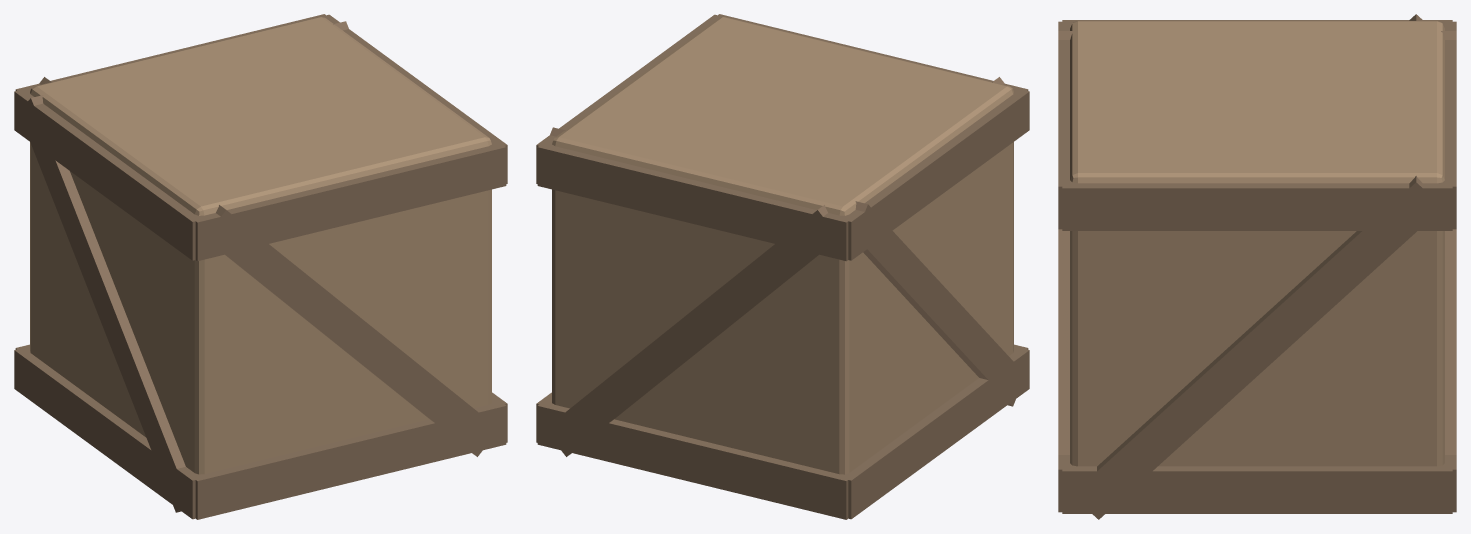
The model's file is crate.glb.
3 renders of one model, left to right at view 1: azimuth 30°, elevation 25°; view 2: azimuth 150°, elevation 25°; view 3: azimuth 270°, elevation 25°, orthographic. The views are drawn at different scales.
Parts seen in each view (by area): view 1: crate; view 2: crate; view 3: crate.
Boxes of the visible parts, x1,y1,x2,y2 form: crate: [14, 14, 507, 519]; crate: [536, 14, 1029, 519]; crate: [1058, 14, 1456, 519].
Bounding box in the file's own units: 1.02 × 0.96 × 1.02.
